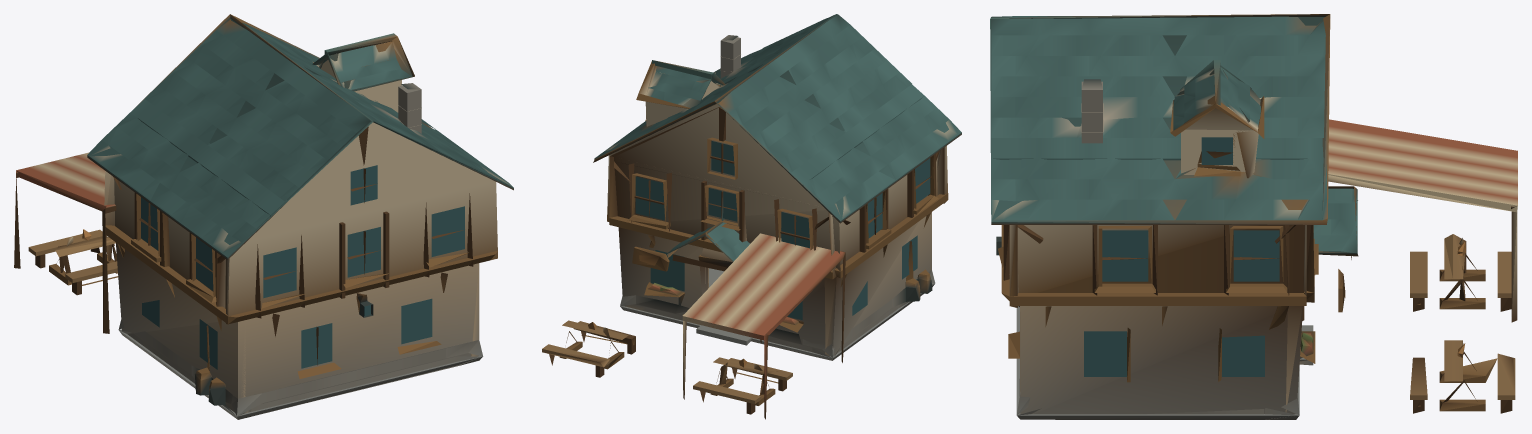
Rendered from Tavern.glb.
3 views of the same model, side by side, from view 1: azimuth 30°, elevation 25°; view 2: azimuth 150°, elevation 25°; view 3: azimuth 270°, elevation 25° (orthographic). The views are drawn at different scales.
Parts seen in each view (by area): view 1: Tavern_P0_LOD1, TavernGlass_P0_LOD1, TavernCourtyard_P0_LOD1; view 2: Tavern_P0_LOD1, TavernCourtyard_P0_LOD1, TavernGlass_P0_LOD1; view 3: Tavern_P0_LOD1, TavernCourtyard_P0_LOD1, TavernGlass_P0_LOD1.
Boxes of the visible parts, x1=… form: Tavern_P0_LOD1: x1=87, y1=14, x2=513, y2=419; TavernGlass_P0_LOD1: x1=141, y1=165, x2=464, y2=369; TavernCourtyard_P0_LOD1: x1=14, y1=152, x2=118, y2=333; Tavern_P0_LOD1: x1=593, y1=14, x2=961, y2=360; TavernCourtyard_P0_LOD1: x1=542, y1=233, x2=845, y2=419; TavernGlass_P0_LOD1: x1=635, y1=141, x2=930, y2=319; Tavern_P0_LOD1: x1=990, y1=14, x2=1358, y2=419; TavernCourtyard_P0_LOD1: x1=1302, y1=119, x2=1517, y2=413; TavernGlass_P0_LOD1: x1=1084, y1=137, x2=1279, y2=376.
Size of the model in its own units: 9.02 by 8.49 by 12.05.
